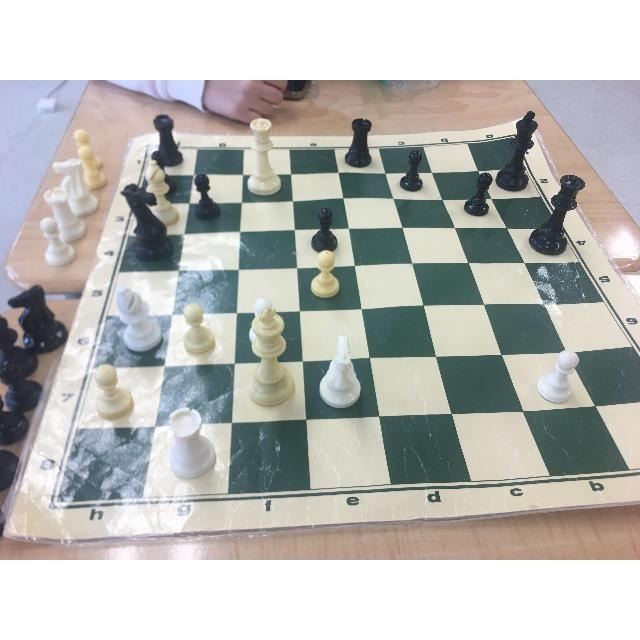black-king: (505, 111, 541, 193)
black-knight: (112, 177, 175, 259)
black-pawn: (459, 165, 491, 217), (398, 137, 426, 193), (188, 168, 220, 216), (308, 203, 342, 247)
black-queen: (525, 165, 588, 257)
black-rook: (142, 113, 188, 168), (345, 112, 379, 170)
white-bishop: (104, 286, 165, 352), (133, 154, 187, 220)
white-king: (237, 301, 294, 415)
white-knight: (315, 332, 361, 428)
white-pawn: (529, 334, 584, 400), (83, 361, 130, 421), (307, 250, 359, 304), (172, 301, 212, 351)
white-queen: (242, 113, 283, 196)
white-rook: (155, 405, 225, 485)
